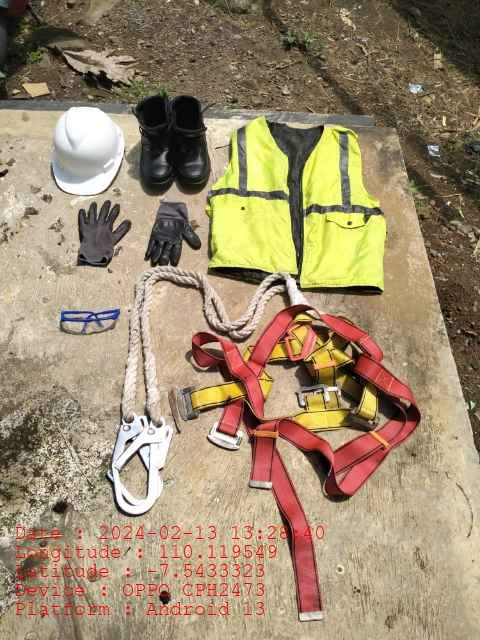HELM: (50, 106, 124, 195)
ROMPI: (215, 118, 375, 285)
SARUNG_TANGAN: (75, 200, 131, 268), (146, 200, 201, 268)
SEPATU: (135, 94, 212, 198)
TAMBANG_SLING: (104, 265, 216, 517)
